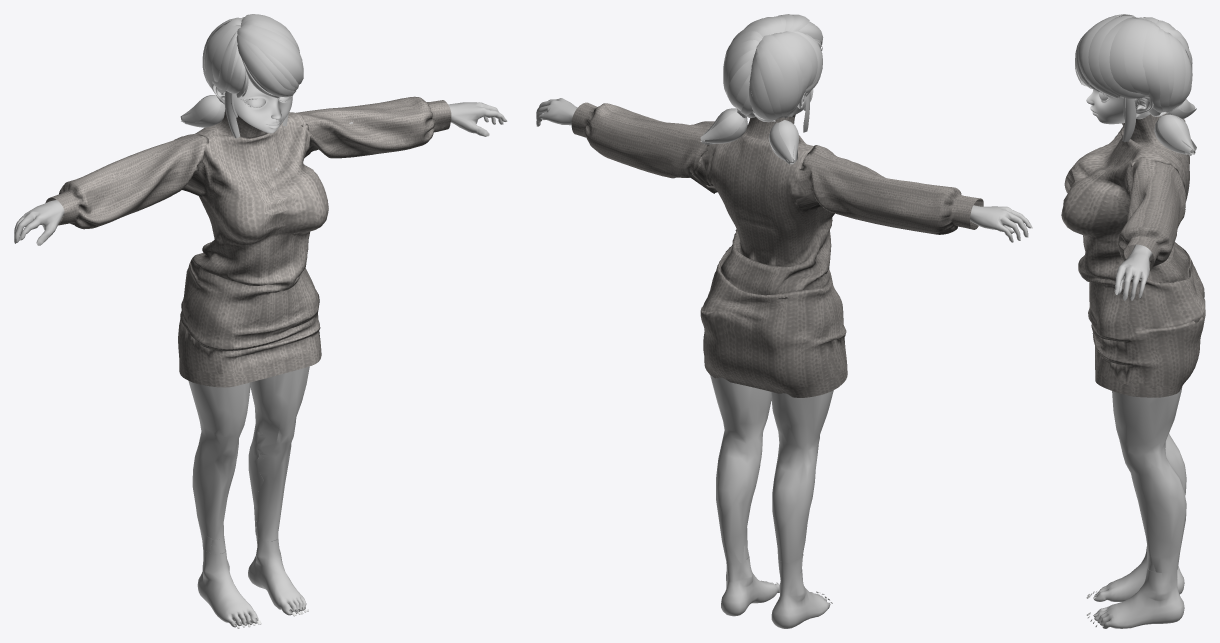
Rendered from Final Girl 4.fbx.
3 views of the same model, side by side, from view 1: azimuth 30°, elevation 25°; view 2: azimuth 150°, elevation 25°; view 3: azimuth 270°, elevation 25° (orthographic).
Parts seen in each view (by area): view 1: 03, node_id27_32, node_id84_68, node_id24_30, node_id21_28, node_id81_66; view 2: 03, node_id27_32, node_id84_68, node_id24_30, node_id21_28; view 3: 03, node_id84_68, node_id27_32, node_id24_30, node_id21_28, node_id81_66.
Boxes of the visible parts, box(x1,y1,x2,y2) form: 03: box(45, 96, 451, 387); node_id27_32: box(56, 122, 352, 553); node_id84_68: box(180, 14, 303, 138); node_id24_30: box(197, 535, 306, 627); node_id21_28: box(14, 102, 507, 245); node_id81_66: box(212, 79, 292, 133); 03: box(571, 102, 983, 397); node_id27_32: box(710, 113, 833, 577); node_id84_68: box(700, 14, 823, 164); node_id24_30: box(721, 557, 830, 628); node_id21_28: box(536, 98, 1032, 242); 03: box(1061, 113, 1205, 397); node_id84_68: box(1075, 14, 1196, 155); node_id27_32: box(1108, 116, 1186, 572); node_id24_30: box(1093, 546, 1184, 628); node_id21_28: box(1114, 251, 1149, 300); node_id81_66: box(1086, 89, 1153, 124).
Size of the model in its own units: 60.54 by 69.52 by 15.35.
